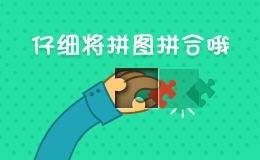target: (92, 48, 136, 88)
